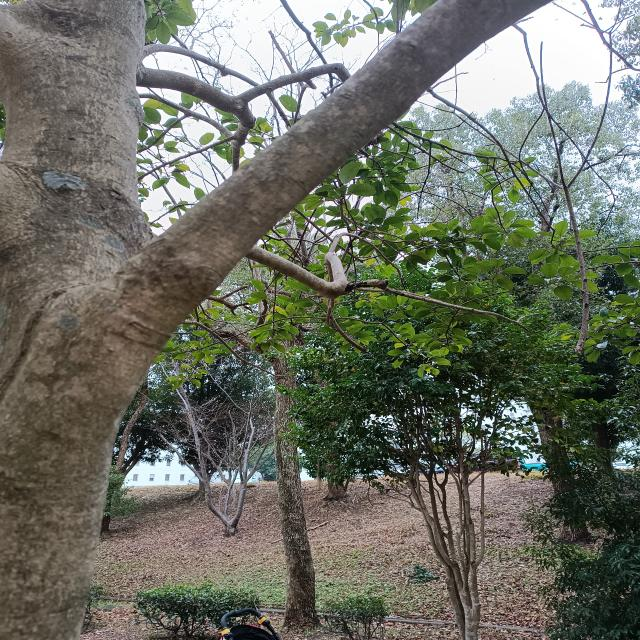Branch: (123, 0, 554, 363), (0, 0, 149, 326)
Twig: (144, 43, 289, 128), (137, 63, 351, 114), (246, 232, 401, 299), (351, 279, 521, 324), (229, 107, 256, 171)
